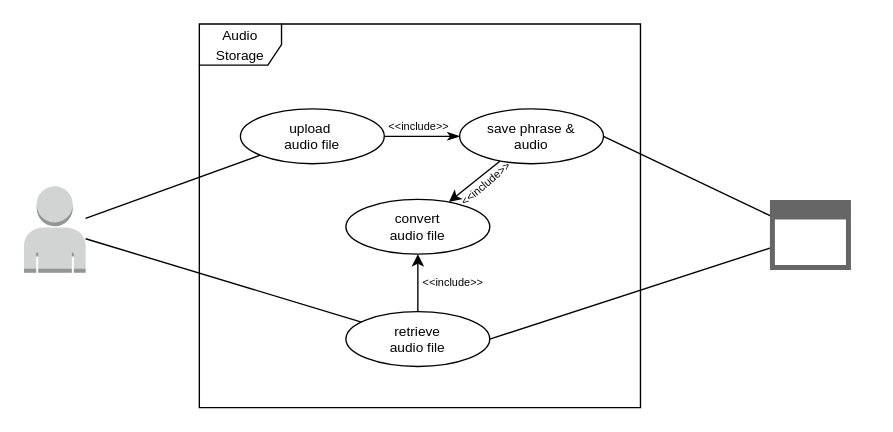
Some shapes in this 893 by 432 pixel diagram are drawn without their labels. Each missing label, with the centre of its shape:
"Audio Storage Service" goes at [809,234].
"User" goes at [54,229].
